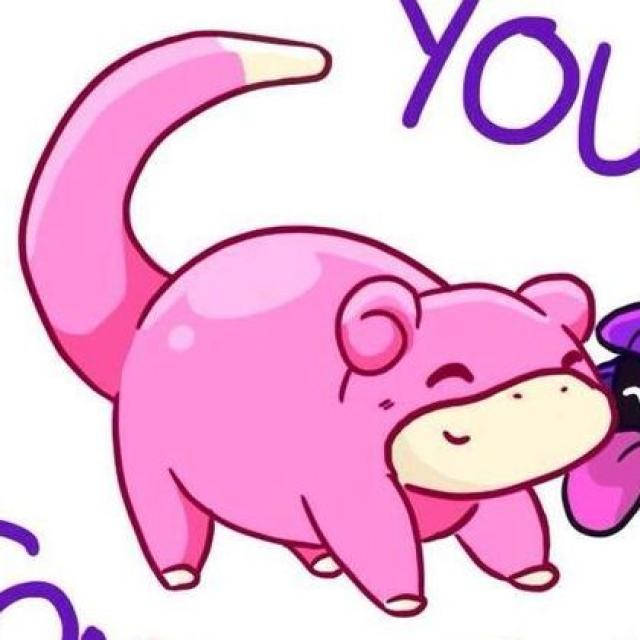Slowpoke: (102, 210, 603, 616)
